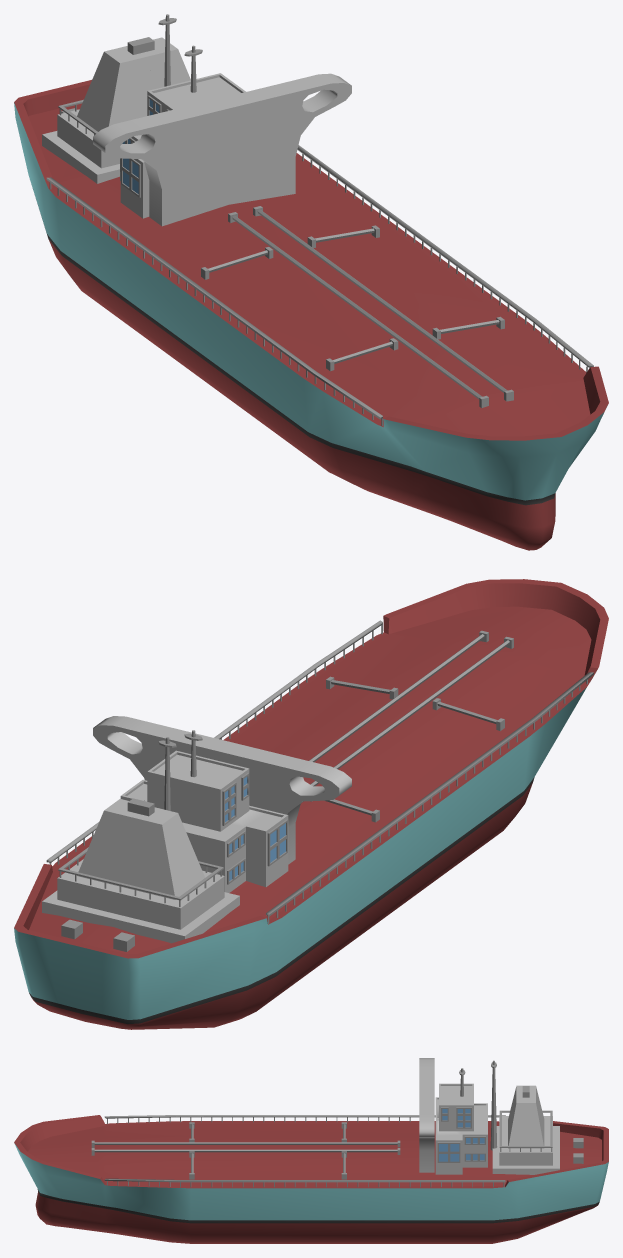
File: SM_LowPolyTanker.glb
3 views of the same model, one above another, from view 1: azimuth 30°, elevation 25°; view 2: azimuth 150°, elevation 25°; view 3: azimuth 270°, elevation 25° (orthographic). The views are drawn at different scales.
Parts seen in each view (by area): view 1: SM_LowPolyTanker; view 2: SM_LowPolyTanker; view 3: SM_LowPolyTanker.
Part boxes in pixels (x1=…): SM_LowPolyTanker: x1=14, y1=14, x2=608, y2=550; SM_LowPolyTanker: x1=14, y1=579, x2=608, y2=1029; SM_LowPolyTanker: x1=14, y1=1058, x2=608, y2=1243.
Bounding box in the file's own units: 1.17 × 1.22 × 4.01.
